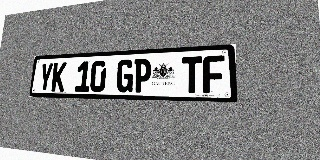0: (89, 60, 107, 92)
1: (75, 61, 91, 92)
F: (203, 55, 225, 94)
G: (116, 59, 134, 92)
K: (51, 62, 67, 92)
P: (133, 58, 152, 93)
T: (182, 56, 202, 93)
Y: (38, 63, 54, 91)
